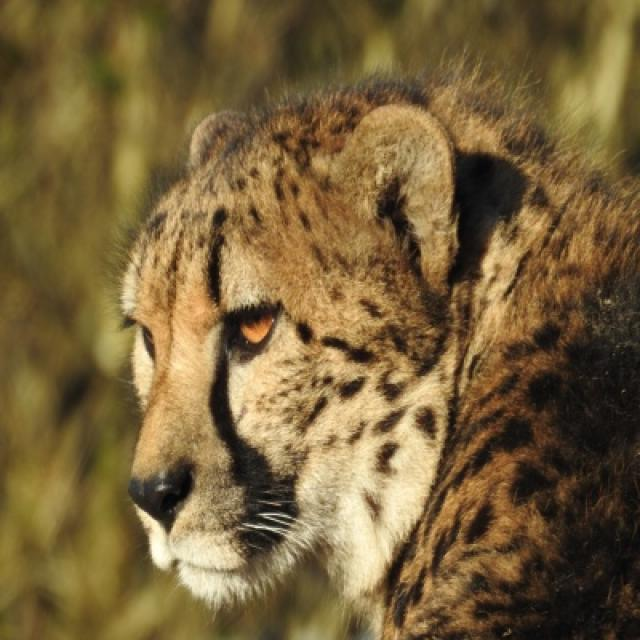Cheetah: (115, 53, 638, 638)
